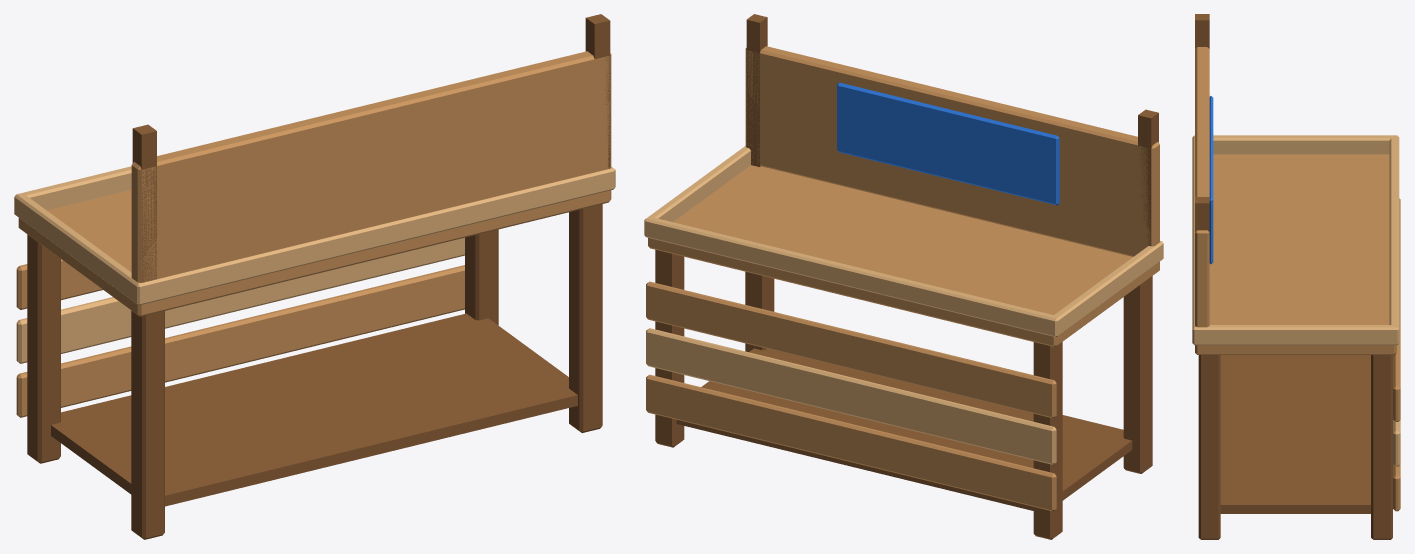
Rendered from Ahsap_Tezgah.fbx.
3 renders of one model, left to right at view 1: azimuth 30°, elevation 25°; view 2: azimuth 150°, elevation 25°; view 3: azimuth 270°, elevation 25°, orthographic. The views are drawn at different scales.
Visible parts, largest first — view 1: Ahsap_Tezgah; view 2: Ahsap_Tezgah; view 3: Ahsap_Tezgah.
Boxes of the visible parts, <box> form: Ahsap_Tezgah: <box>14,14,615,539</box>; Ahsap_Tezgah: <box>644,14,1163,539</box>; Ahsap_Tezgah: <box>1192,14,1400,539</box>.
Bounding box in the file's own units: 186 × 152 × 84.5.
